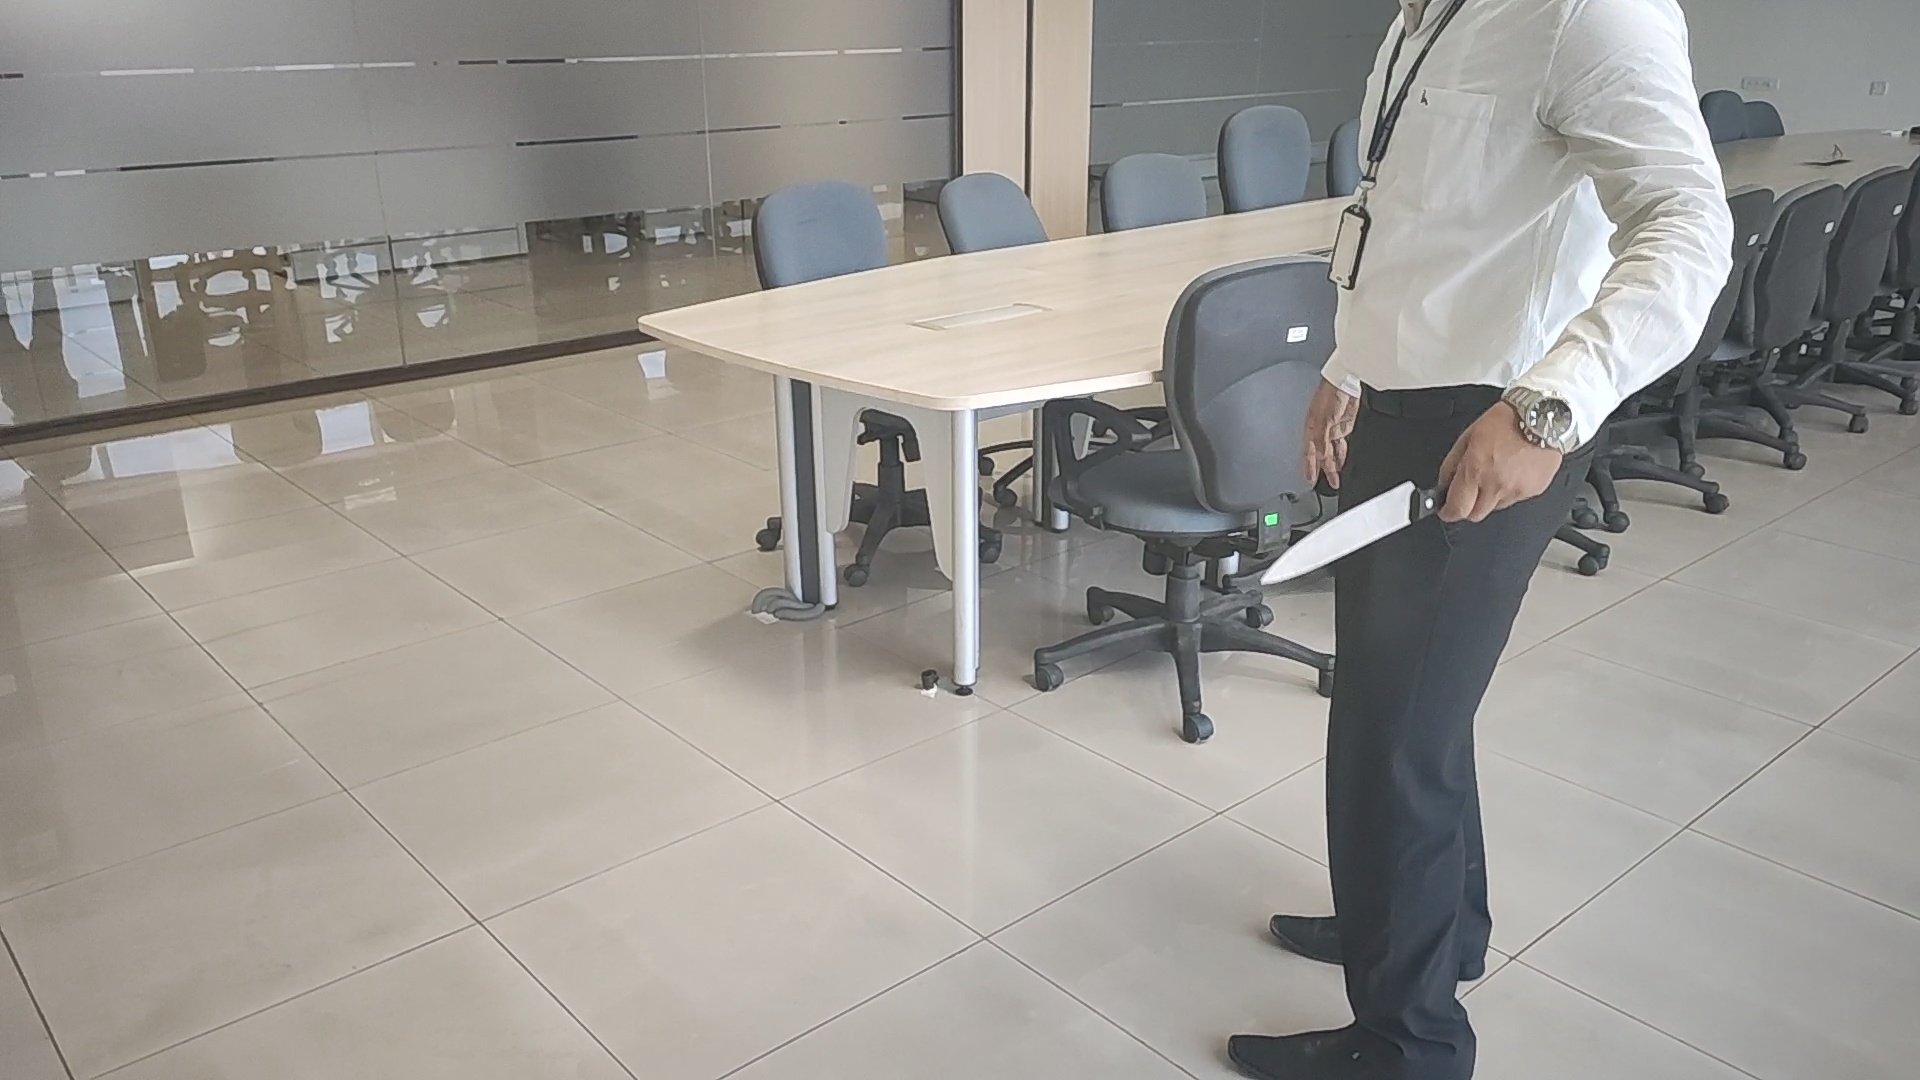knife: (1258, 477, 1447, 589)
